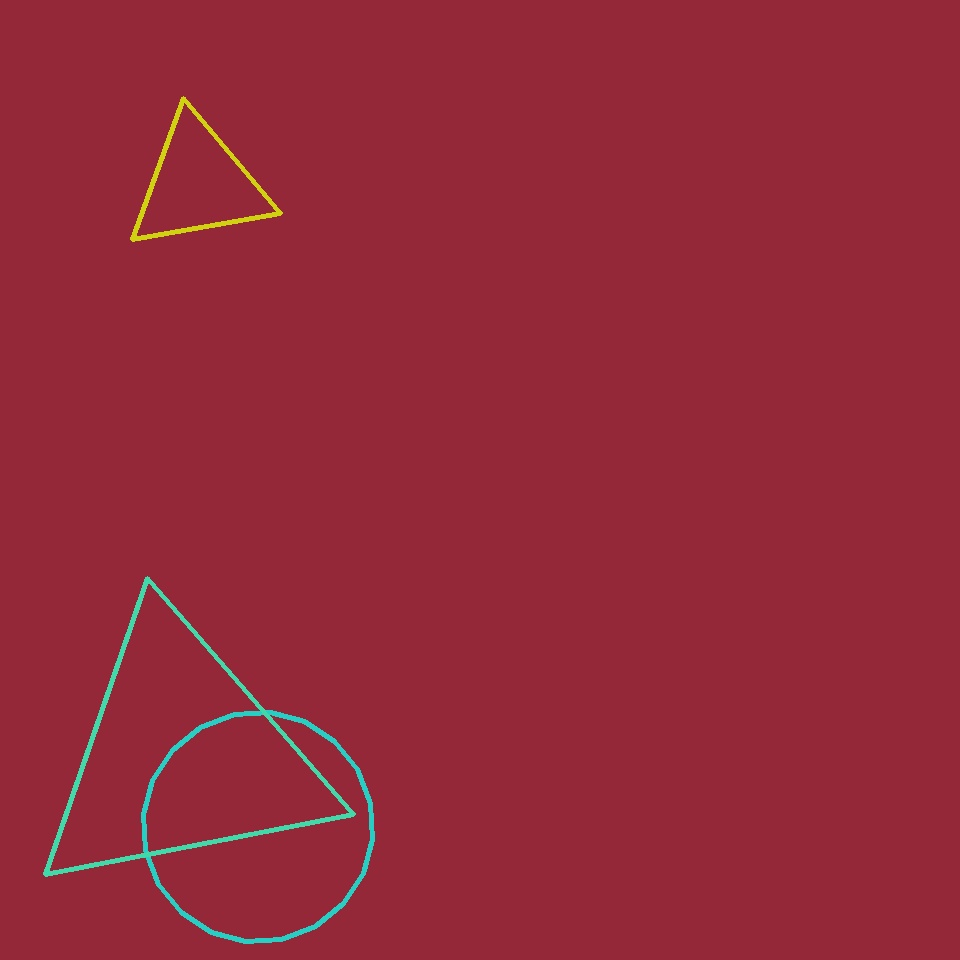circle: (28, 608, 336, 904), (125, 114, 273, 255)
triangle: (144, 712, 372, 942)
